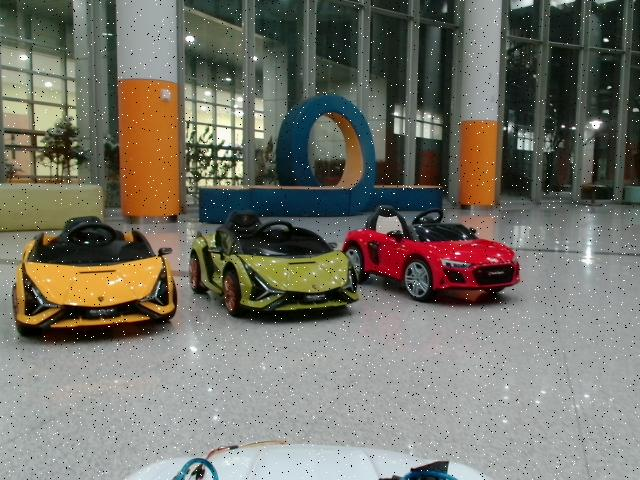car: (12, 216, 178, 336), (189, 210, 359, 316), (341, 206, 521, 301)
